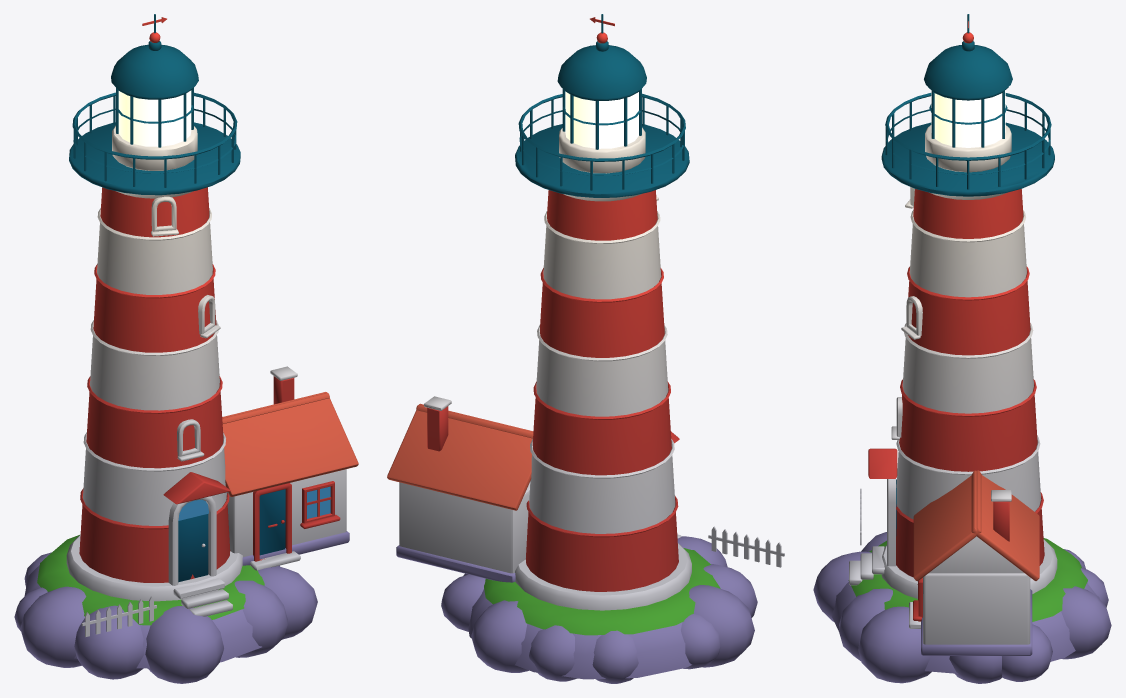
Rendered from lighthouse.glb.
3 renders of one model, left to right at view 1: azimuth 30°, elevation 25°; view 2: azimuth 150°, elevation 25°; view 3: azimuth 270°, elevation 25°, orthographic.
Visible parts, largest first — view 1: lighthouse; view 2: lighthouse; view 3: lighthouse.
Part boxes in pixels (x1=…): lighthouse: x1=14, y1=14, x2=358, y2=683; lighthouse: x1=387, y1=14, x2=784, y2=683; lighthouse: x1=813, y1=14, x2=1111, y2=683.
Size of the model in its own units: 8.86 by 16.72 by 7.22.
